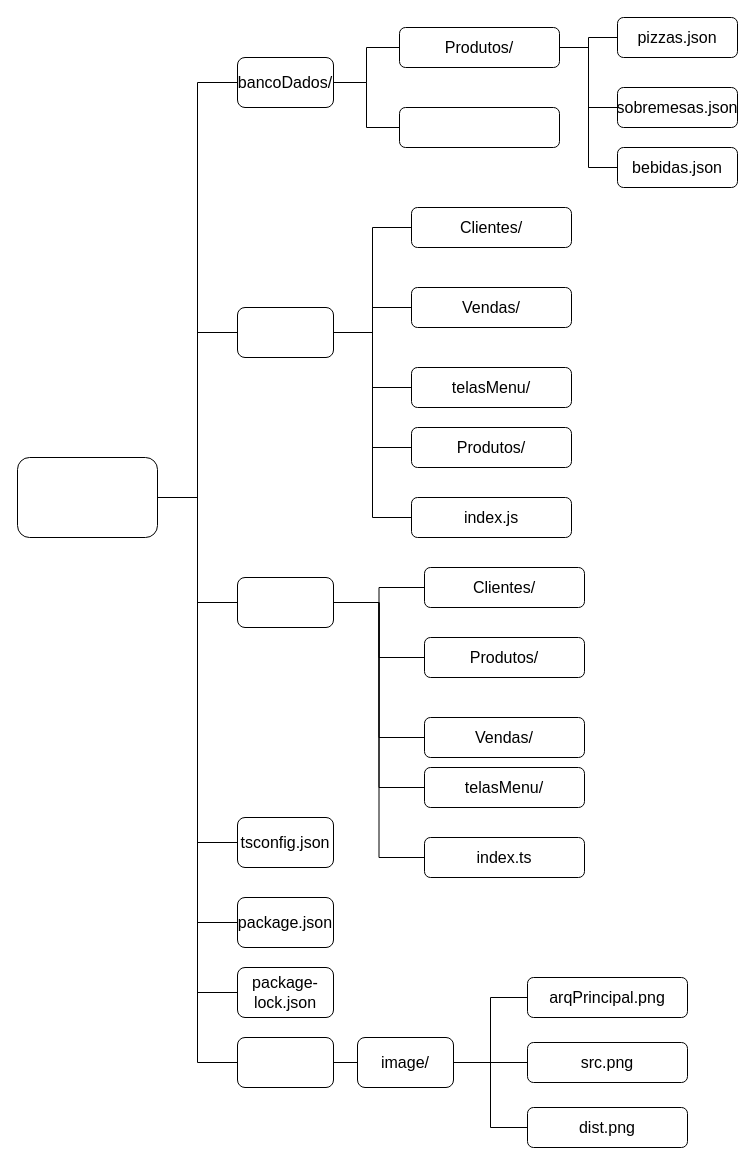
Some shapes in this 755 by 1165 pixel diagram are drawn without their labels. Here are the shapes that lost their labels. From the top down, the centre of each, then its label:
point 479,127: cadastroClientes.json
point 285,332: dist/
point 87,497: sistemaPizzaria/
point 285,602: src/
point 285,1062: assets/
